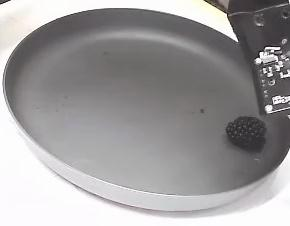berry: (226, 116, 265, 150)
